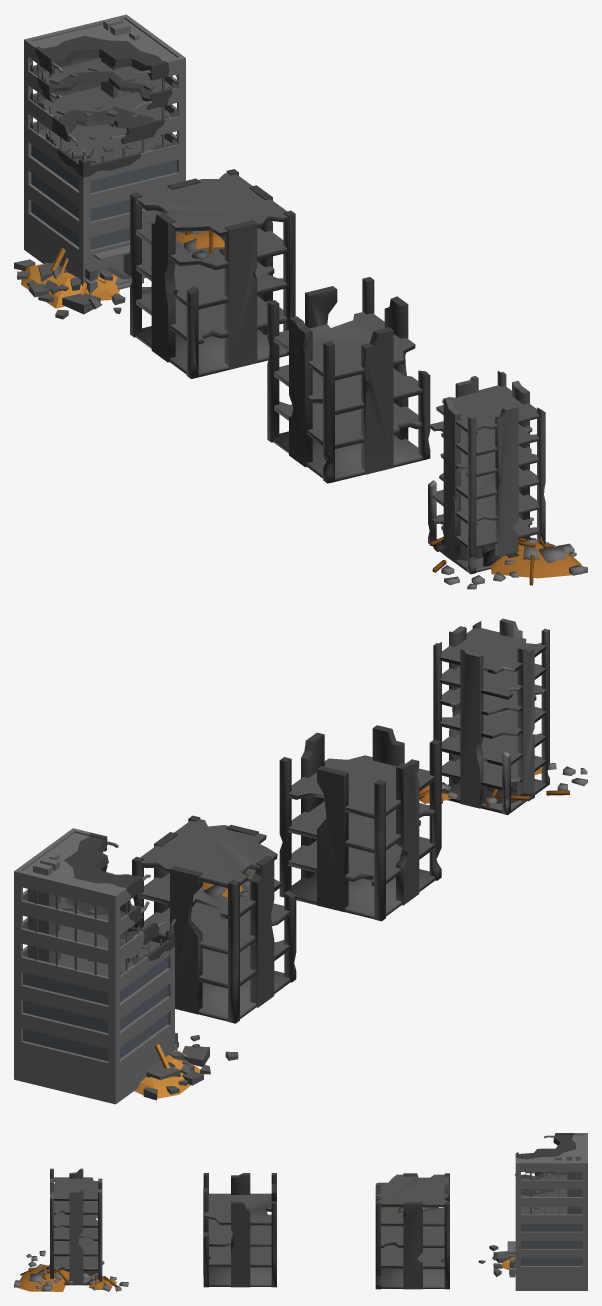
The model's file is BrockenBildings.fbx.
3 views of the same model, one above another, from view 1: azimuth 30°, elevation 25°; view 2: azimuth 150°, elevation 25°; view 3: azimuth 270°, elevation 25° (orthographic). The views are drawn at different scales.
Visible parts, largest first — view 1: SA_Bld_Office_Damaged_01, Bilding_002, Bilding_003, Bilding_001, Trash, Stuf; view 2: SA_Bld_Office_Damaged_01, Bilding_003, Bilding_002, Bilding_001, Trash; view 3: SA_Bld_Office_Damaged_01, Bilding_002, Bilding_003, Bilding_001, Trash.
Boxes of the visible parts, x1,y1,x2,y2 form: SA_Bld_Office_Damaged_01: [14, 14, 185, 319]; Bilding_002: [130, 169, 295, 378]; Bilding_003: [267, 277, 430, 483]; Bilding_001: [428, 371, 545, 574]; Trash: [429, 517, 587, 589]; Stuf: [175, 231, 224, 260]; SA_Bld_Office_Damaged_01: [14, 828, 238, 1104]; Bilding_003: [279, 725, 441, 921]; Bilding_002: [132, 815, 296, 1023]; Bilding_001: [433, 618, 549, 815]; Trash: [419, 763, 587, 807]; SA_Bld_Office_Damaged_01: [478, 1133, 587, 1290]; Bilding_002: [375, 1173, 449, 1289]; Bilding_003: [203, 1173, 276, 1287]; Bilding_001: [50, 1168, 102, 1285]; Trash: [14, 1250, 128, 1291].
Size of the model in its own units: 10.88 by 15.22 by 58.66.
